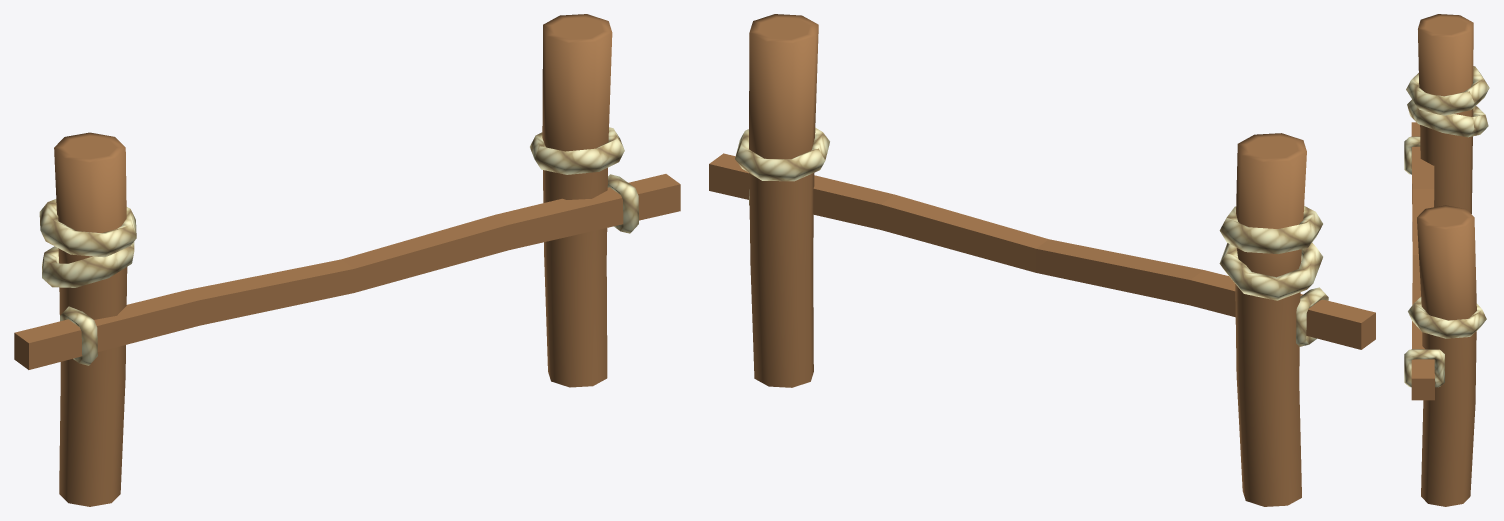
Rendered from H_Ponton_B.fbx.
The picture shows the model from 3 angles, left to right: view 1: azimuth 30°, elevation 25°; view 2: azimuth 150°, elevation 25°; view 3: azimuth 270°, elevation 25°; orthographic projection. The views are drawn at different scales.
Visible parts, largest first — view 1: H_ponton_B; view 2: H_ponton_B; view 3: H_ponton_B.
Boxes of the visible parts, x1,y1,x2,y2 form: H_ponton_B: [14, 14, 680, 506]; H_ponton_B: [709, 14, 1375, 506]; H_ponton_B: [1404, 14, 1489, 506].
Bounding box in the file's own units: 300 × 152 × 42.26.
